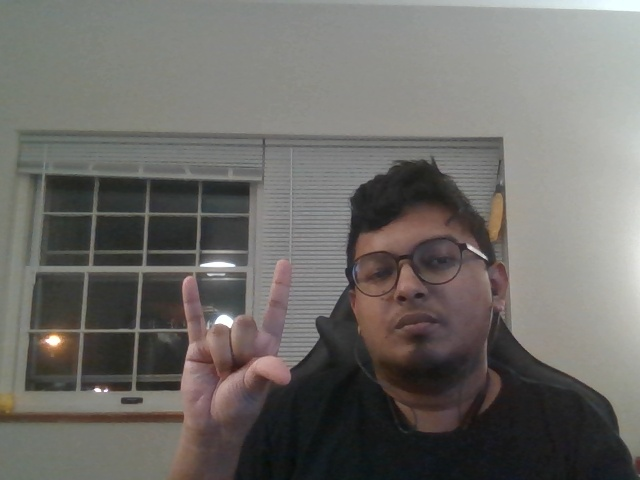ilikeyou: (168, 260, 298, 436)
